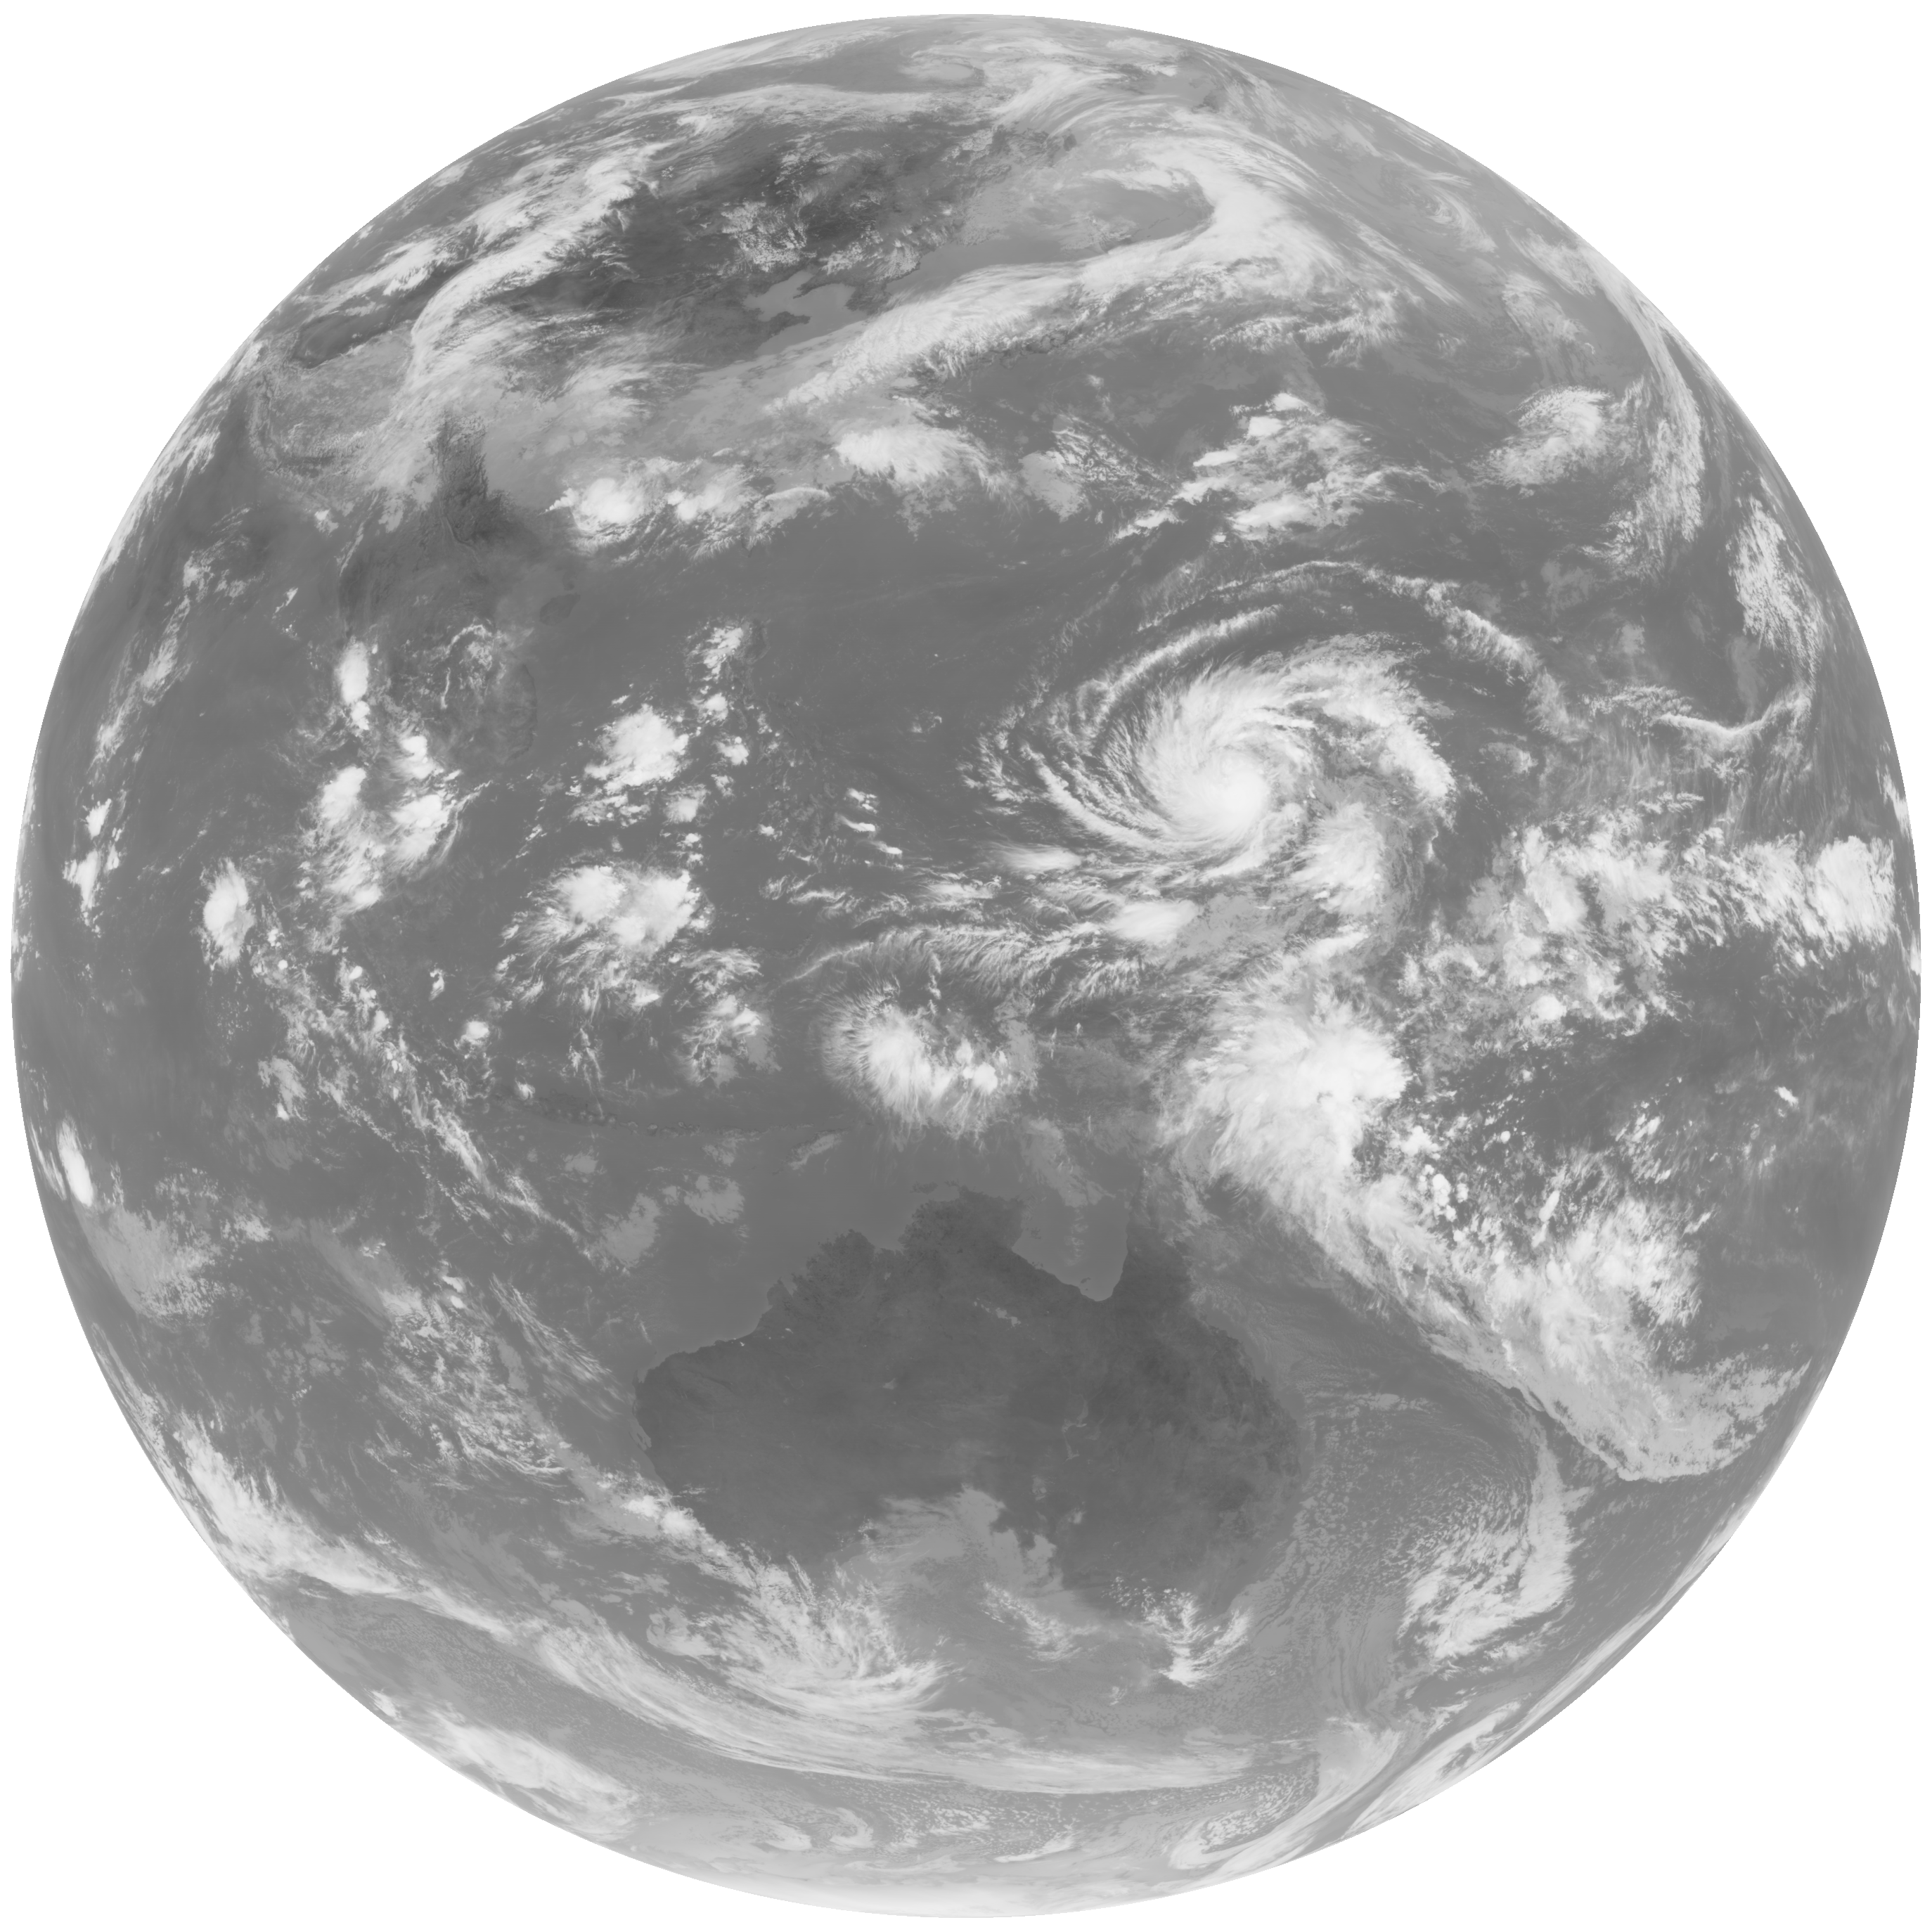typhoon: (970, 587, 1500, 989)
